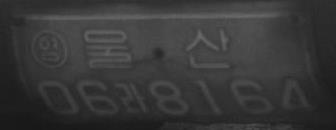0: (36, 78, 78, 117)
1: (190, 79, 226, 118)
4: (279, 77, 316, 115)
6: (230, 78, 274, 117), (79, 79, 118, 117)
8: (150, 78, 189, 117)
라: (119, 80, 150, 115)
영: (31, 30, 69, 69)
울산_D: (82, 26, 230, 70)
